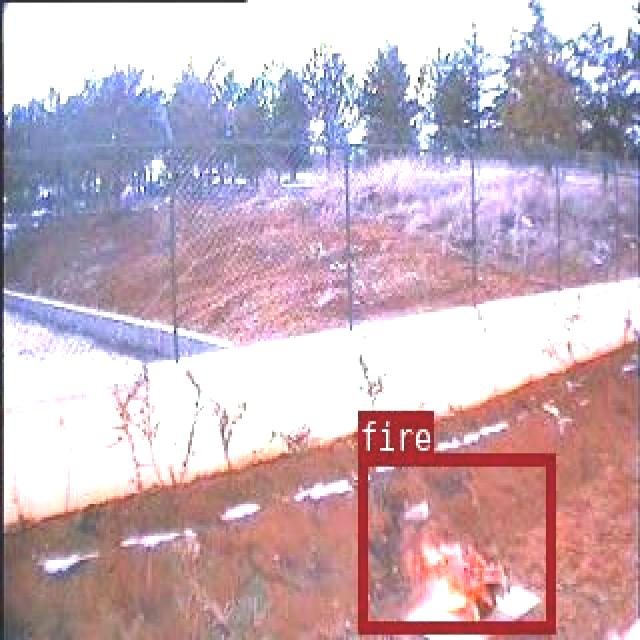fire: (356, 452, 554, 632)
